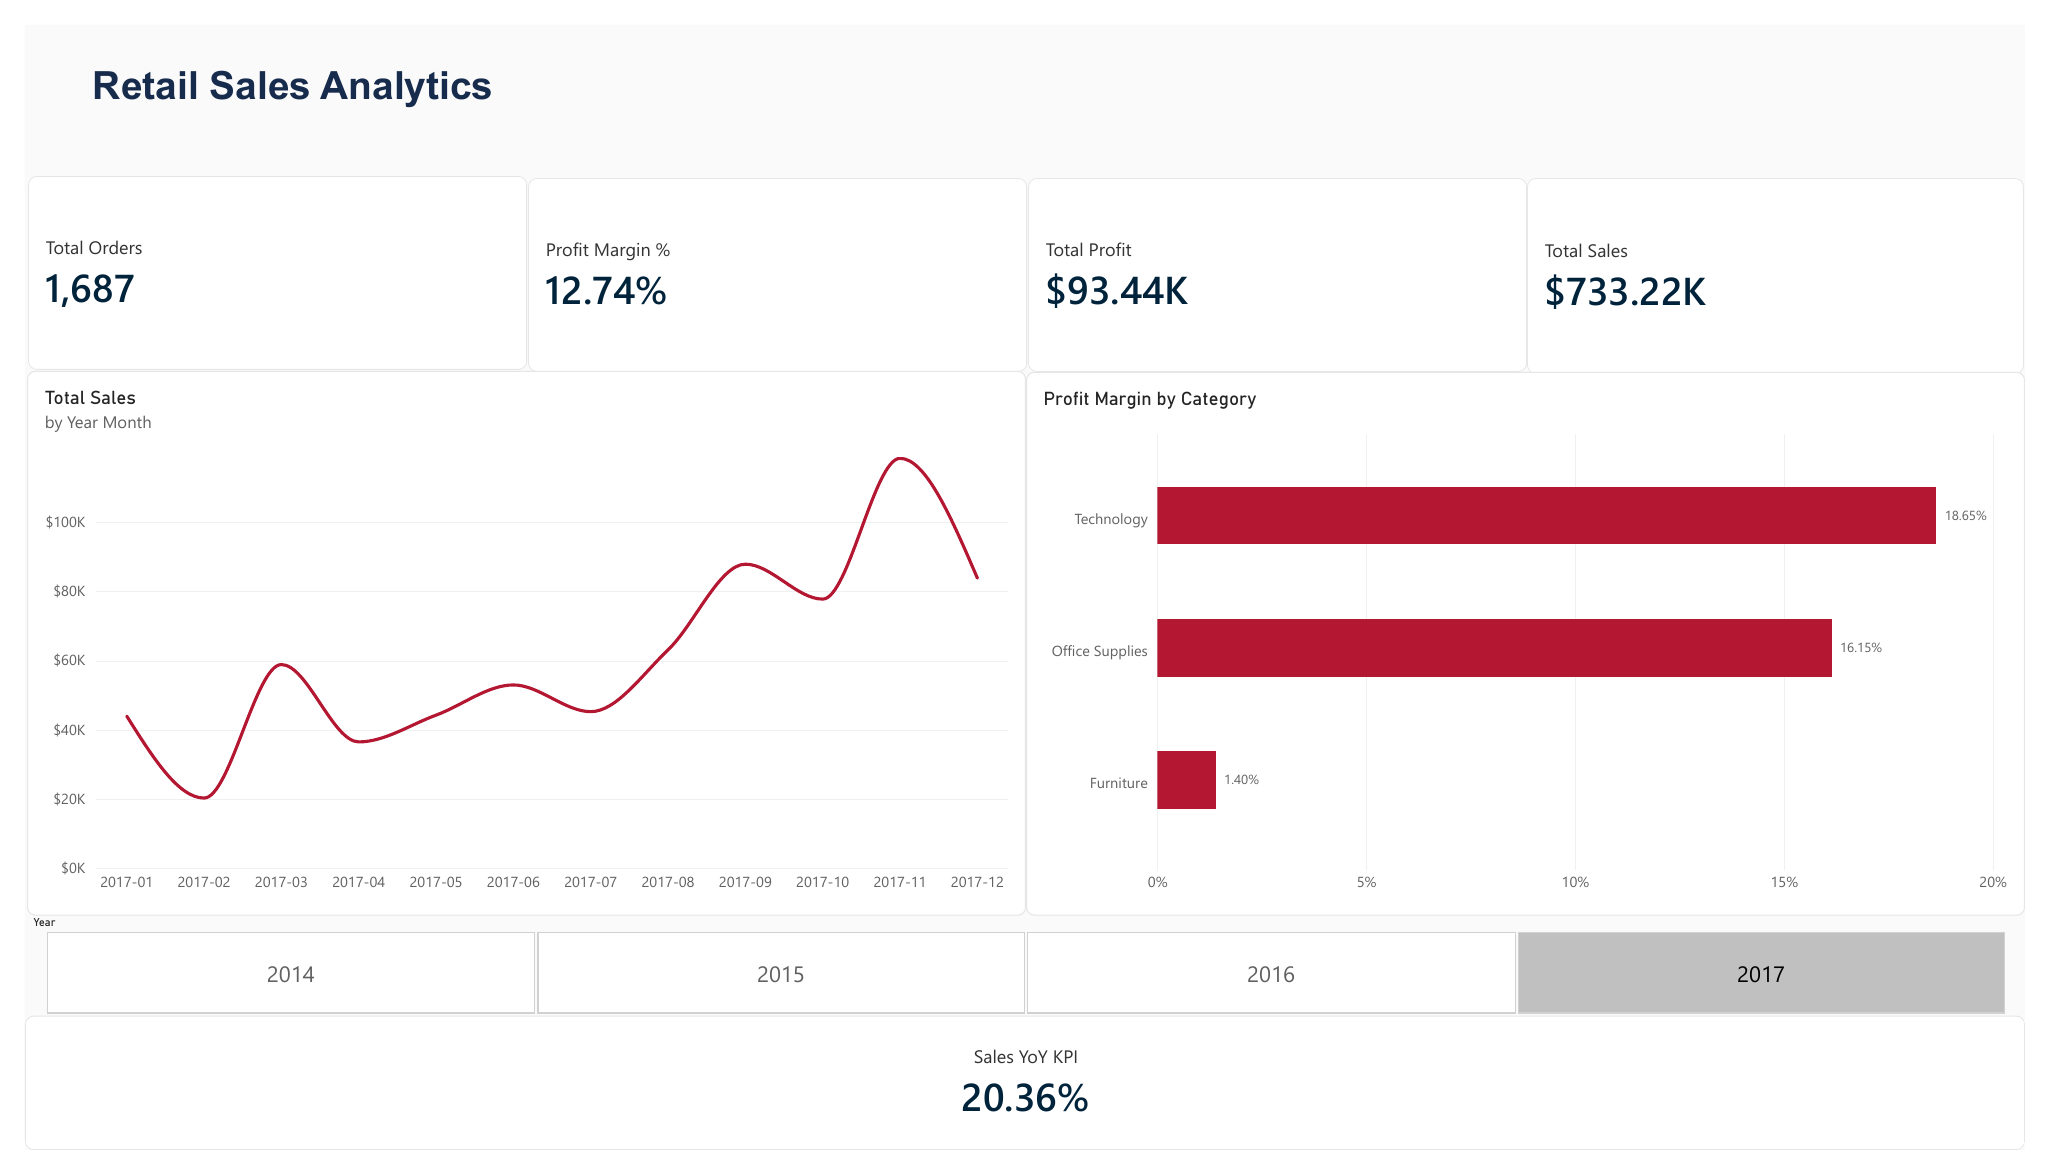

Layout of this report page (visuals, bound fields, positions):
{"tool":"powerbi","page":{"name":"Executive Overview","canvas":[1920,1080],"ordinal":0},"visuals":[{"type":"cardVisual","fields":{"Data":["SalesData.Total Sales"]},"box":[1442.4,146.5,477.9,188.4],"z":0},{"type":"cardVisual","fields":{"Data":["SalesData.Total Profit"]},"box":[962.8,146.5,479.7,186.6],"z":1000},{"type":"cardVisual","fields":{"Data":["SalesData.Profit Margin %"]},"box":[483.1,146.5,479.7,186.6],"z":2000},{"type":"lineChart","fields":{"Category":["DateTable.Year Month"],"Y":["SalesData.Total Sales"]},"box":[1.8,332.2,959.3,523.3],"z":3000},{"type":"clusteredBarChart","title":"Profit Margin by Category","fields":{"Category":["SalesData.Category"],"Y":["SalesData.Profit Margin %"]},"box":[961,333.1,959.3,521.5],"z":4000},{"type":"slicer","fields":{"Values":["DateTable.Year"]},"box":[0,854.7,1920.4,95.9],"z":5000},{"type":"textbox","box":[2.6,0,1918.4,144.7],"z":6000},{"type":"cardVisual","fields":{"Data":["SalesData.Total Orders"]},"box":[3.5,144.8,479.7,186.6],"z":7000},{"type":"cardVisual","fields":{"Data":["SalesData.Sales YoY KPI"]},"box":[0,950.6,1920.4,129.1],"z":8000}]}

Visuals, with their boxes in screenshot pixels (x1, y1, x2, y2), scaled from the page's 1920x1080 canvas onto the 2050x1175 screenshot:
cardVisual - SalesData.Total Sales: Rect(1540, 159, 2049, 364)
cardVisual - SalesData.Total Profit: Rect(1028, 159, 1540, 362)
cardVisual - SalesData.Profit Margin %: Rect(516, 159, 1028, 362)
lineChart - DateTable.Year Month x SalesData.Total Sales: Rect(2, 361, 1026, 931)
"Profit Margin by Category" clusteredBarChart: Rect(1026, 362, 2049, 930)
slicer - DateTable.Year: Rect(0, 930, 2049, 1034)
textbox: Rect(3, 0, 2049, 157)
cardVisual - SalesData.Total Orders: Rect(4, 158, 516, 361)
cardVisual - SalesData.Sales YoY KPI: Rect(0, 1034, 2049, 1174)
